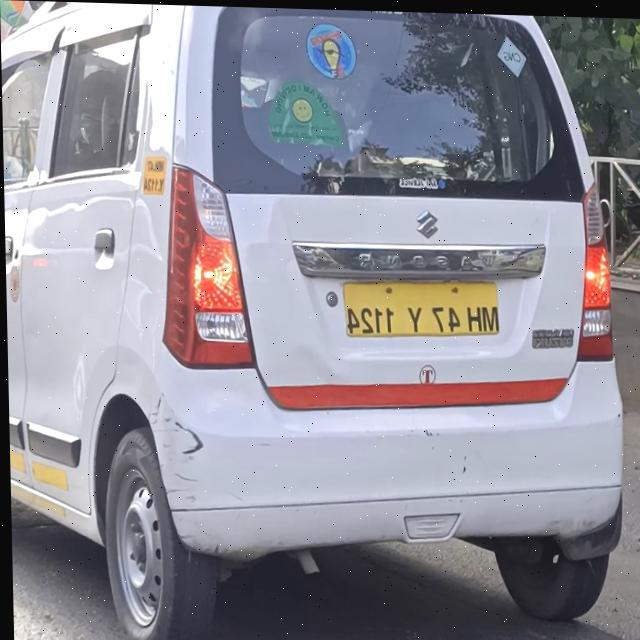plate: (338, 273, 500, 339)
